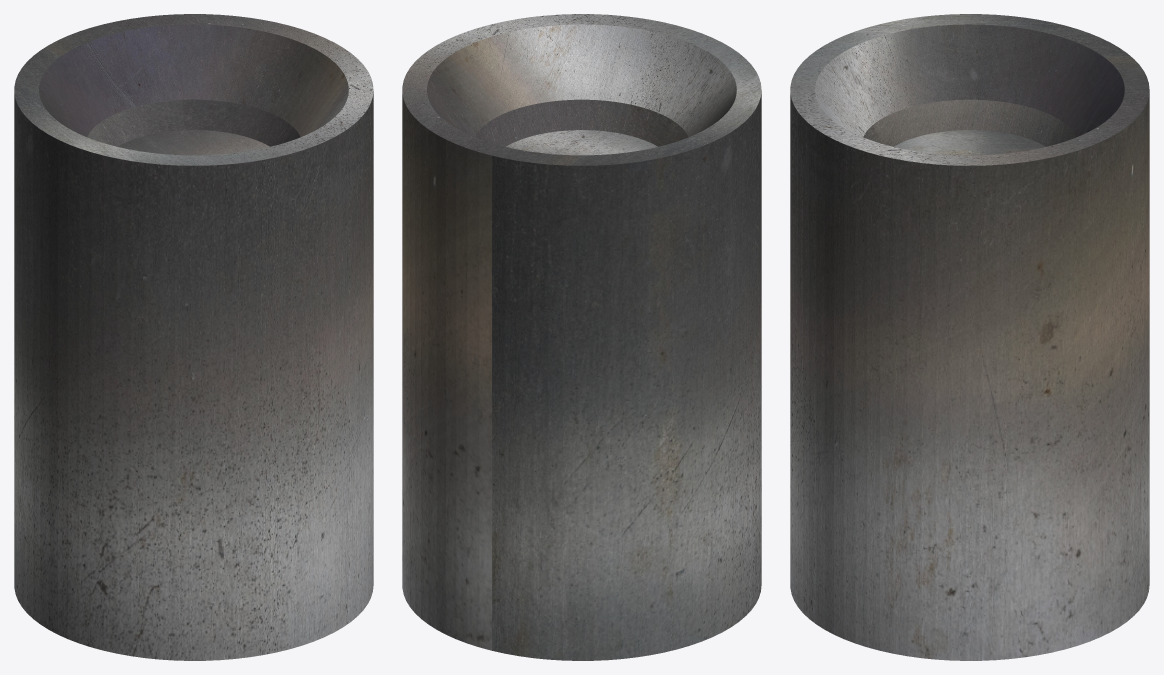
The model's file is pedestal.fbx.
3 renders of one model, left to right at view 1: azimuth 30°, elevation 25°; view 2: azimuth 150°, elevation 25°; view 3: azimuth 270°, elevation 25°, orthographic.
Visible parts, largest first — view 1: Cylinder; view 2: Cylinder; view 3: Cylinder.
Boxes of the visible parts, bbox=[...] form: Cylinder: bbox=[14, 14, 373, 660]; Cylinder: bbox=[402, 14, 761, 660]; Cylinder: bbox=[790, 14, 1149, 660].
Bounding box in the file's own units: 216 × 329 × 216.
